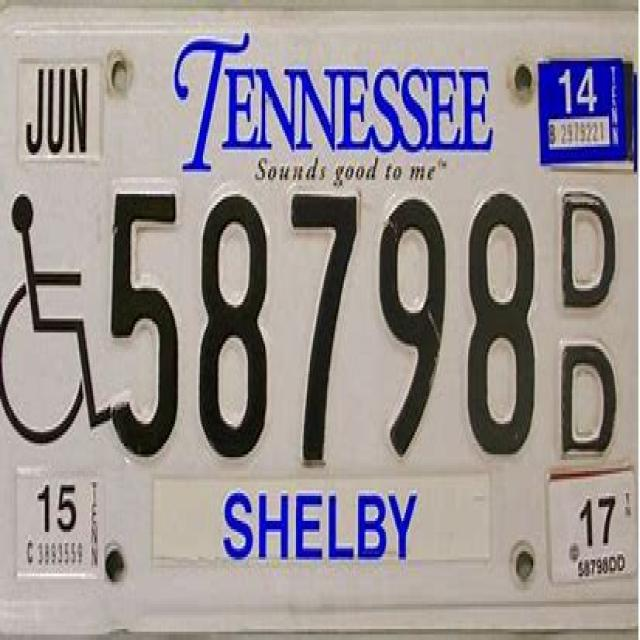car-handicap-placard: (0, 186, 110, 452)
